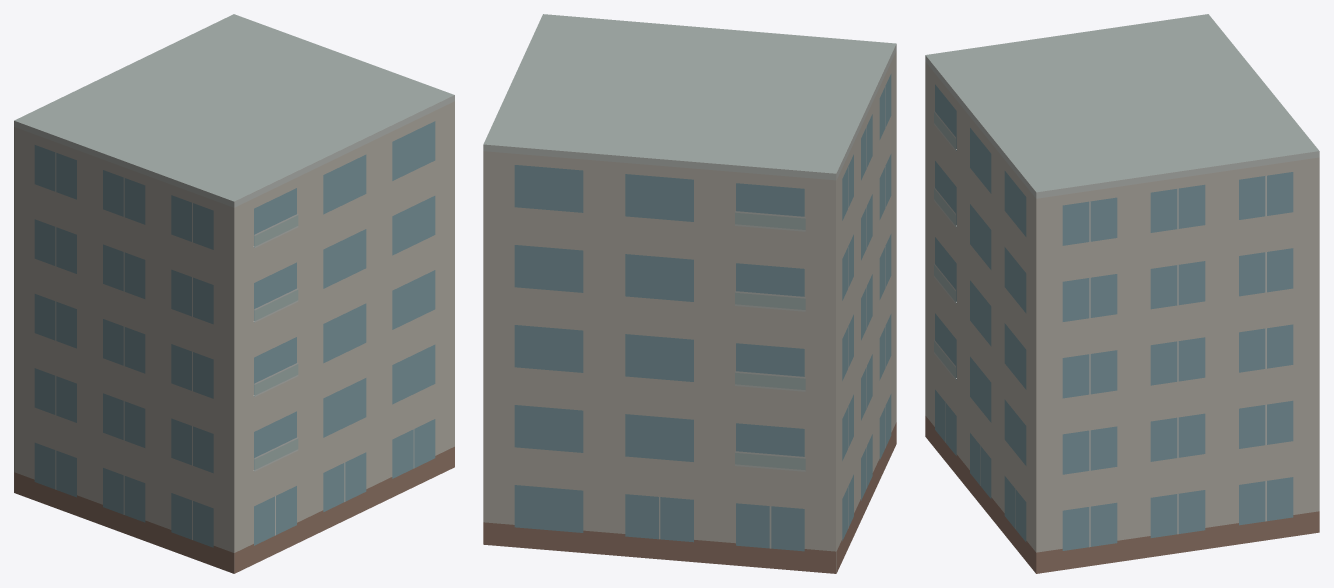
Rendered from survey-upis-32614151.glb.
3 renders of one model, left to right at view 1: azimuth 30°, elevation 25°; view 2: azimuth 150°, elevation 25°; view 3: azimuth 270°, elevation 25°, orthographic. The views are drawn at different scales.
Visible parts, largest first — view 1: survey-upis-32614151.tmp; view 2: survey-upis-32614151.tmp; view 3: survey-upis-32614151.tmp.
Part boxes in pixels (left/top/right/bottom): survey-upis-32614151.tmp: left=14, top=14, right=454, bottom=573; survey-upis-32614151.tmp: left=483, top=14, right=896, bottom=573; survey-upis-32614151.tmp: left=925, top=14, right=1319, bottom=573.
Bounding box in the file's own units: 14.65 × 14.6 × 13.69.
